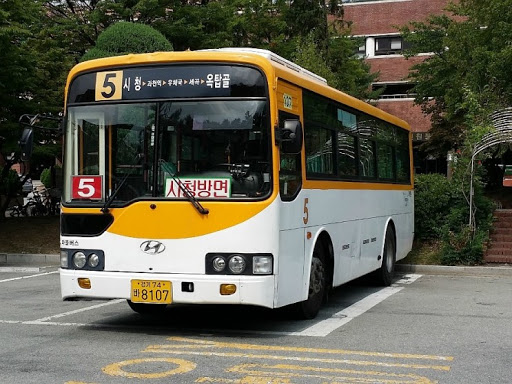bnum: (72, 176, 100, 197)
